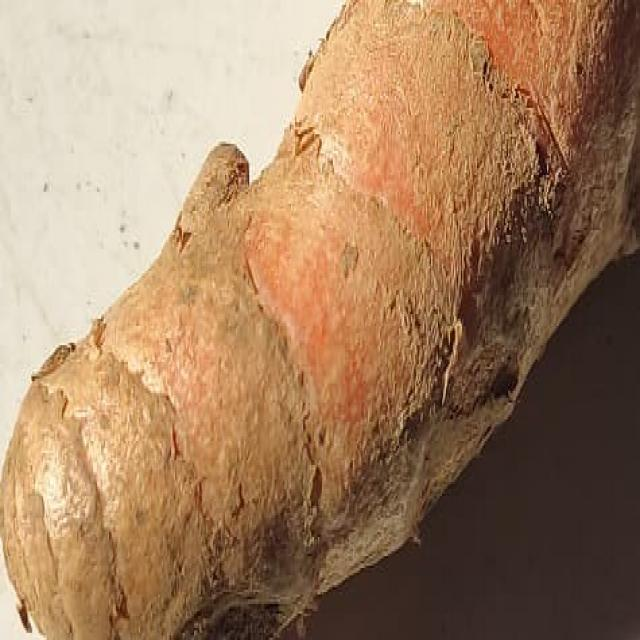ginger: (9, 14, 640, 612)
